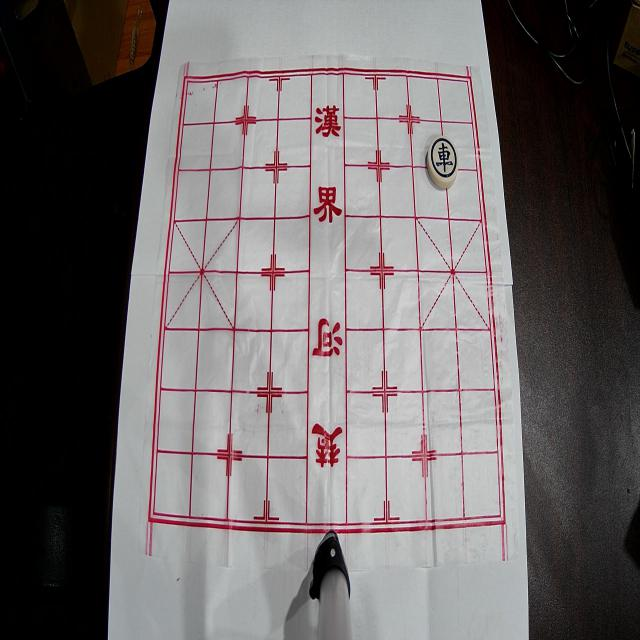black-chariot: (426, 136, 458, 188)
